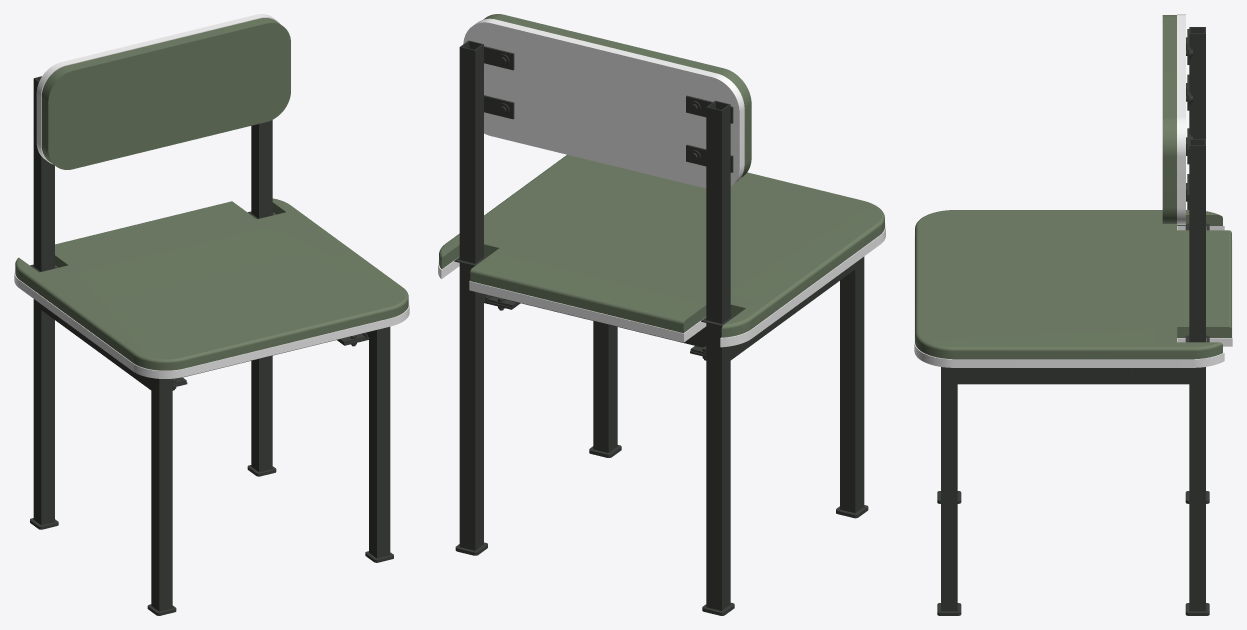
3 views of the same model, side by side, from view 1: azimuth 30°, elevation 25°; view 2: azimuth 150°, elevation 25°; view 3: azimuth 270°, elevation 25° (orthographic). The views are drawn at different scales.
Visible parts, largest first — view 1: seat-upholstery-envelope, back-upholstery-envelope, leg-0-1, leg-0-0, leg-1-0, leg-1-1, seat-carrier, back-carrier, side-rail-0-0; view 2: seat-upholstery-envelope, back-carrier, leg-0-1, leg-1-1, leg-0-0, seat-carrier, leg-1-0, back-upholstery-envelope, side-rail-0-0; view 3: seat-upholstery-envelope, leg-1-1, leg-1-0, side-rail-1-0, seat-carrier, back-upholstery-envelope, back-carrier, leg-0-1.
Boxes of the visible parts, bbox=[...] form: seat-upholstery-envelope: bbox=[15, 198, 408, 370]; back-upholstery-envelope: bbox=[41, 18, 290, 169]; leg-0-1: bbox=[33, 76, 54, 525]; leg-0-0: bbox=[151, 378, 172, 611]; leg-1-0: bbox=[369, 326, 390, 558]; leg-1-1: bbox=[251, 120, 272, 472]; seat-carrier: bbox=[14, 213, 409, 378]; back-carrier: bbox=[36, 14, 280, 164]; side-rail-0-0: bbox=[41, 304, 151, 389]; seat-upholstery-envelope: bbox=[439, 154, 884, 337]; back-carrier: bbox=[463, 18, 744, 188]; leg-0-1: bbox=[706, 100, 730, 610]; leg-1-1: bbox=[459, 40, 483, 550]; leg-0-0: bbox=[840, 256, 864, 513]; seat-carrier: bbox=[438, 223, 885, 347]; leg-1-0: bbox=[593, 321, 617, 452]; back-upholstery-envelope: bbox=[483, 14, 751, 177]; side-rail-0-0: bbox=[730, 263, 855, 360]; seat-upholstery-envelope: bbox=[915, 210, 1231, 359]; leg-1-1: bbox=[1189, 139, 1205, 611]; leg-1-0: bbox=[941, 367, 957, 611]; side-rail-1-0: bbox=[957, 368, 1189, 384]; seat-carrier: bbox=[914, 225, 1232, 367]; back-upholstery-envelope: bbox=[1162, 15, 1176, 223]; back-carrier: bbox=[1177, 14, 1185, 224]; leg-0-1: bbox=[1189, 27, 1205, 138].
Bounding box in the file's own units: 0.5 × 0.8125 × 0.48.
